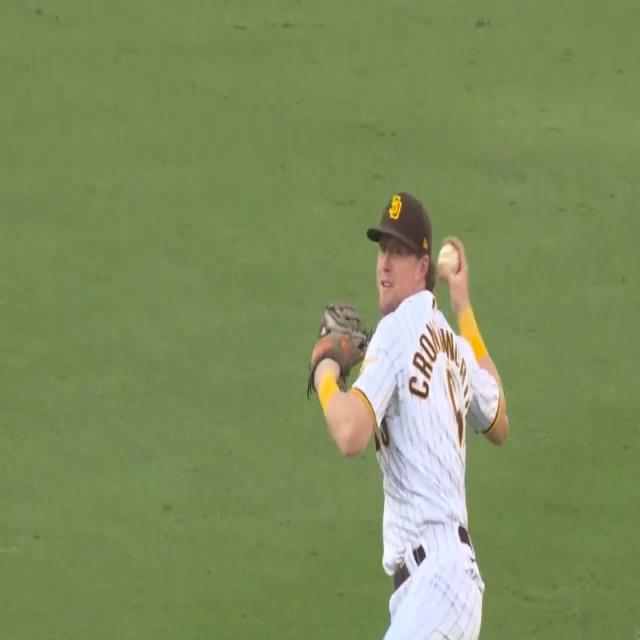baseball: (437, 242, 460, 280)
